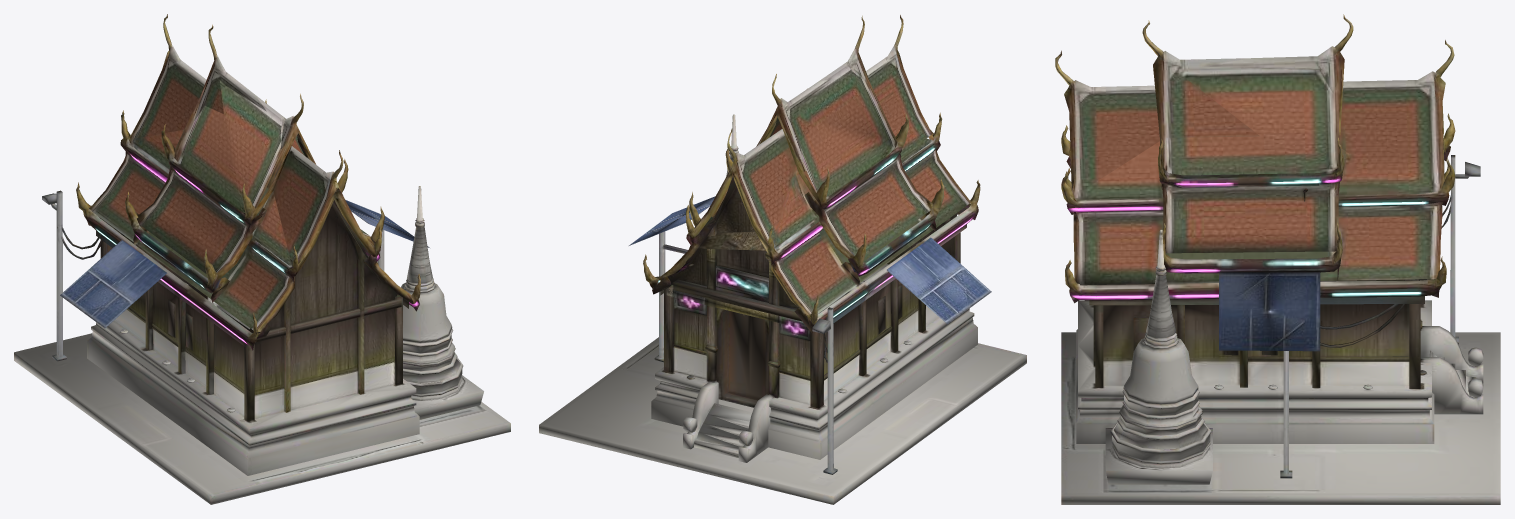
Rendered from lanna_wat.glb.
3 views of the same model, side by side, from view 1: azimuth 30°, elevation 25°; view 2: azimuth 150°, elevation 25°; view 3: azimuth 270°, elevation 25° (orthographic). The views are drawn at different scales.
Parts seen in each view (by area): view 1: Body, Glow; view 2: Body, Glow; view 3: Body, Glow.
Part boxes in pixels (x1,y1,x2,y2): Body: (14, 14, 510, 504); Glow: (94, 153, 419, 345); Body: (539, 15, 1026, 504); Glow: (658, 142, 975, 318); Body: (1055, 14, 1500, 504); Glow: (1068, 179, 1433, 300).
Bounding box in the file's own units: 16 × 16.26 × 16.52.
2 materials, 2 textured.
